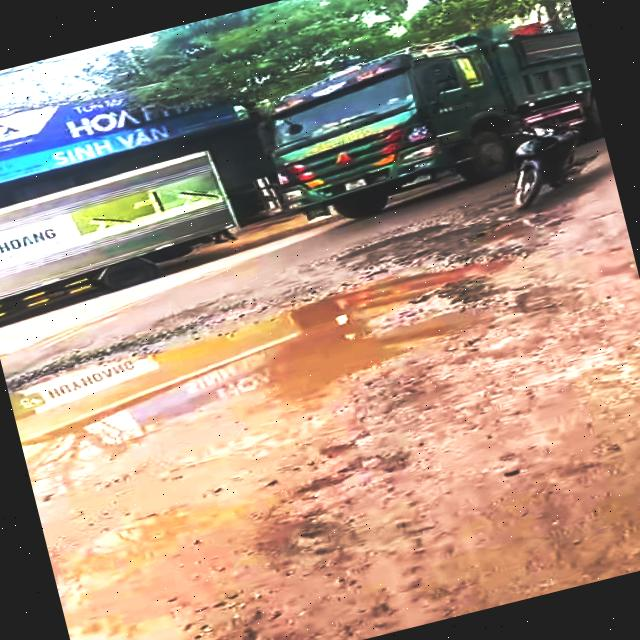pothole: (0, 195, 589, 488)
